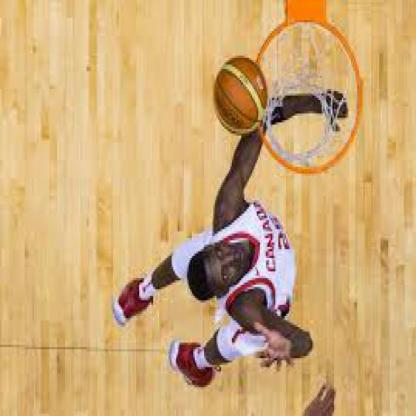basketball: (212, 53, 269, 134)
rim: (252, 18, 364, 178)
